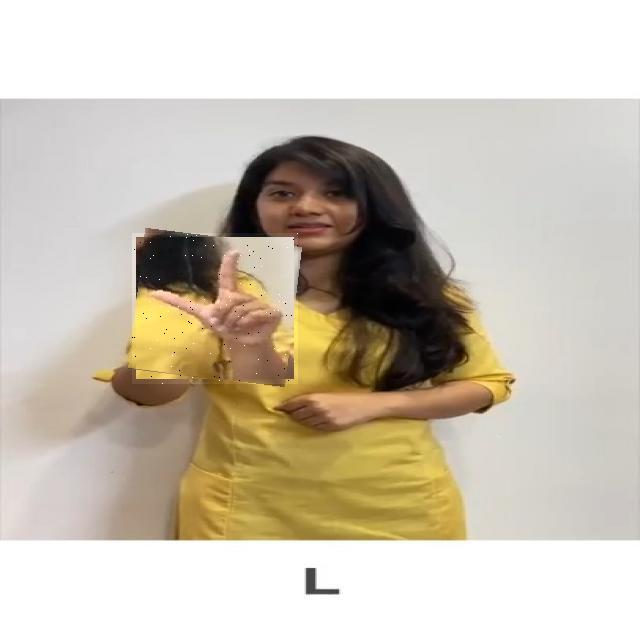L: (132, 233, 298, 384)
